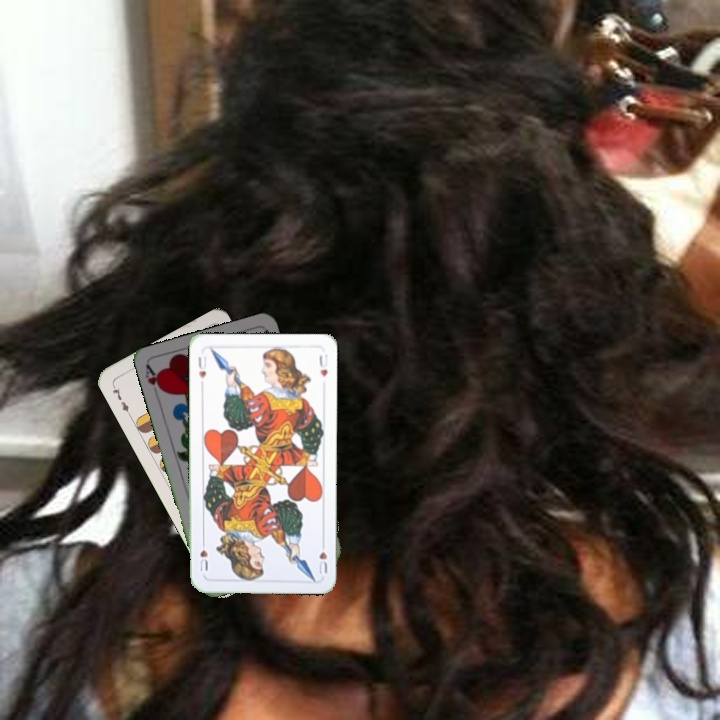E7: (108, 381, 133, 418)
HA: (141, 361, 167, 401)
HU: (314, 537, 329, 576), (194, 352, 209, 381)
